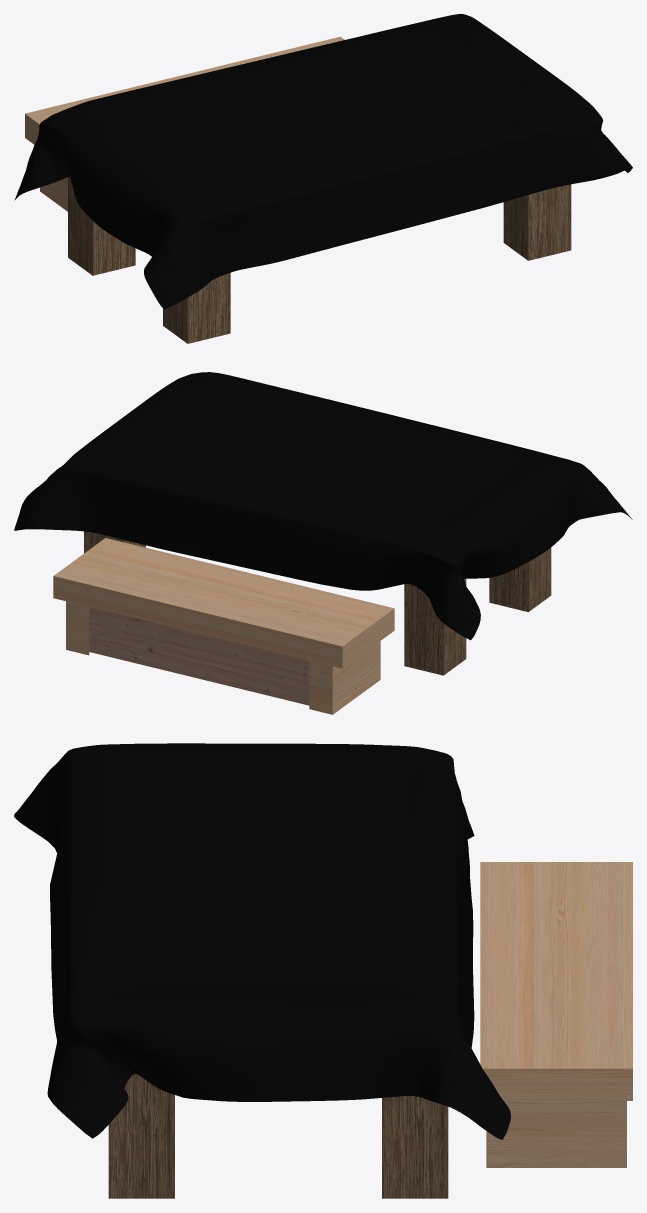
Rendered from mesa_silla.obj.
3 renders of one model, top to bottom at view 1: azimuth 30°, elevation 25°; view 2: azimuth 150°, elevation 25°; view 3: azimuth 270°, elevation 25°, orthographic. The views are drawn at different scales.
Parts seen in each view (by area): view 1: Tablecloth, pasted__pCube1 group1, pasted__pasted__pCube1 pasted__group1 group2, pasted__pCube1 group, pasted__pCube2 group3, pasted__pCube2 group8; view 2: Tablecloth, pasted__pCube2 group3, pasted__pCube2 group6, pasted__pCube1 group, pasted__pCube2 group8, pasted__pasted__pCube1 pasted__group1 group2, pCube2; view 3: Tablecloth, pasted__pCube2 group3, pCube2, pasted__pCube1 group1, pCube1.
Part boxes in pixels (<box>): Tablecloth: <box>14,14,632,309</box>; pasted__pCube1 group1: <box>503,184,571,260</box>; pasted__pasted__pCube1 pasted__group1 group2: <box>163,272,230,343</box>; pasted__pCube1 group: <box>68,176,135,275</box>; pasted__pCube2 group3: <box>25,36,344,144</box>; pasted__pCube2 group8: <box>40,177,67,211</box>; Tablecloth: <box>14,372,632,640</box>; pasted__pCube2 group3: <box>53,538,394,668</box>; pasted__pCube2 group6: <box>89,607,309,705</box>; pasted__pCube1 group: <box>404,578,466,675</box>; pasted__pCube2 group8: <box>309,641,380,714</box>; pasted__pasted__pCube1 pasted__group1 group2: <box>489,547,551,611</box>; pCube2: <box>66,601,89,655</box>; Tablecloth: <box>14,743,510,1139</box>; pasted__pCube2 group3: <box>480,862,632,1100</box>; pCube2: <box>486,1101,626,1167</box>; pasted__pCube1 group1: <box>108,1074,174,1198</box>; pCube1: <box>382,1096,448,1198</box>.
Bounding box in the file's own units: 11.75 × 3.21 × 9.32.
